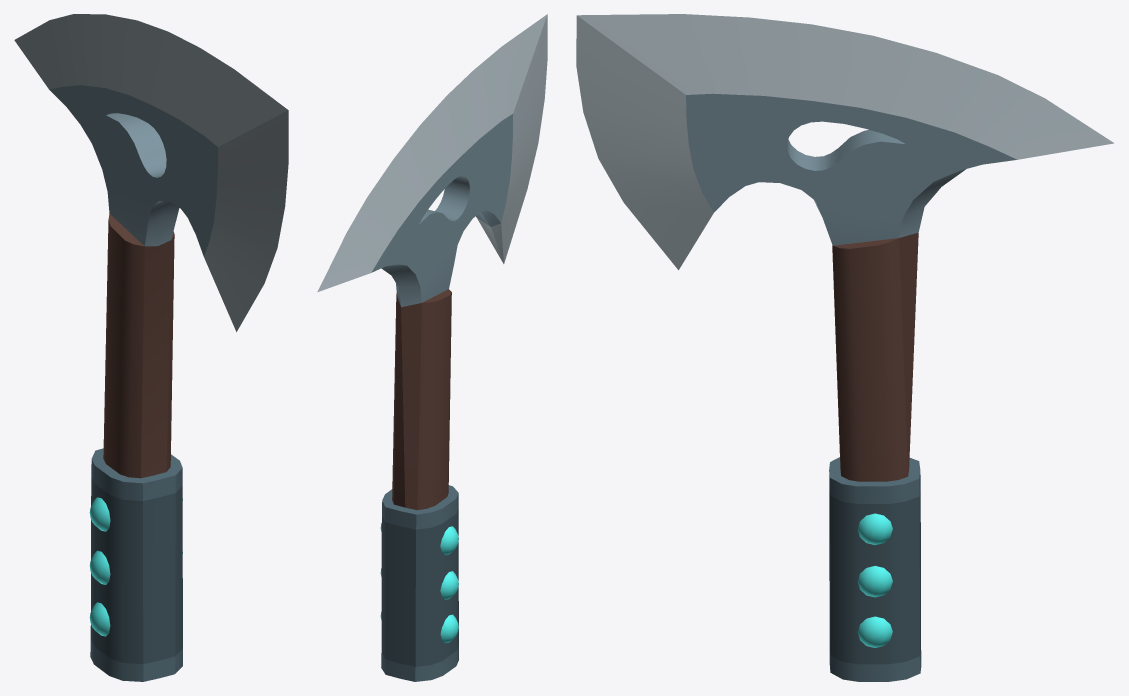
Rendered from M_knife.fbx.
The picture shows the model from 3 angles, left to right: view 1: azimuth 30°, elevation 25°; view 2: azimuth 150°, elevation 25°; view 3: azimuth 270°, elevation 25°; orthographic projection. The views are drawn at different scales.
Visible parts, largest first — view 1: M_knife; view 2: M_knife; view 3: M_knife.
Part boxes in pixels (x1,y1,x2,y2): M_knife: [14, 14, 288, 681]; M_knife: [317, 14, 547, 681]; M_knife: [576, 14, 1113, 681].
Size of the model in its own units: 8.45 by 61.08 by 45.78.
Materials: 1 (1 with a texture image).
